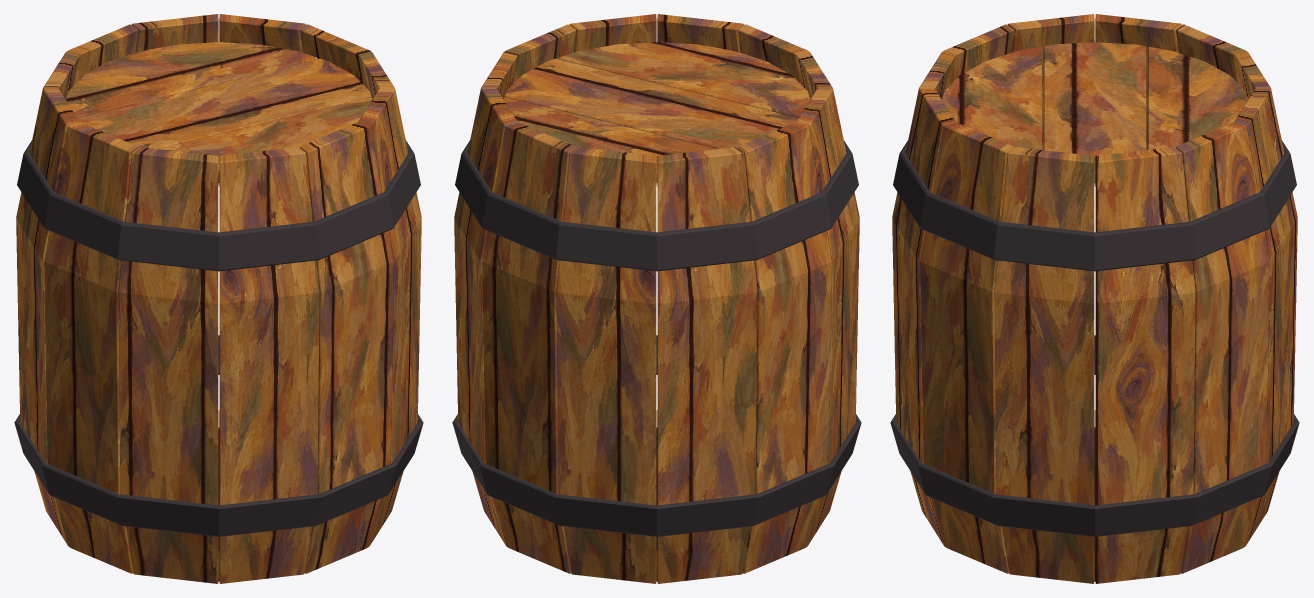
Rendered from aether_barrel_shape_oil.fbx.
3 views of the same model, side by side, from view 1: azimuth 30°, elevation 25°; view 2: azimuth 150°, elevation 25°; view 3: azimuth 270°, elevation 25° (orthographic).
Visible parts, largest first — view 1: aether_barrel_shape_oil; view 2: aether_barrel_shape_oil; view 3: aether_barrel_shape_oil.
Part boxes in pixels (x1,y1,x2,y2): aether_barrel_shape_oil: (14, 14, 423, 583); aether_barrel_shape_oil: (452, 14, 861, 583); aether_barrel_shape_oil: (890, 14, 1299, 583).
Size of the model in its own units: 91.09 by 104 by 91.09.
2 materials, 1 textured.
